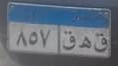5: (28, 30, 39, 46)
7: (39, 28, 52, 49)
8: (15, 30, 28, 50)
haa: (79, 35, 92, 50)
qaaf: (92, 31, 109, 55), (61, 29, 77, 52)
